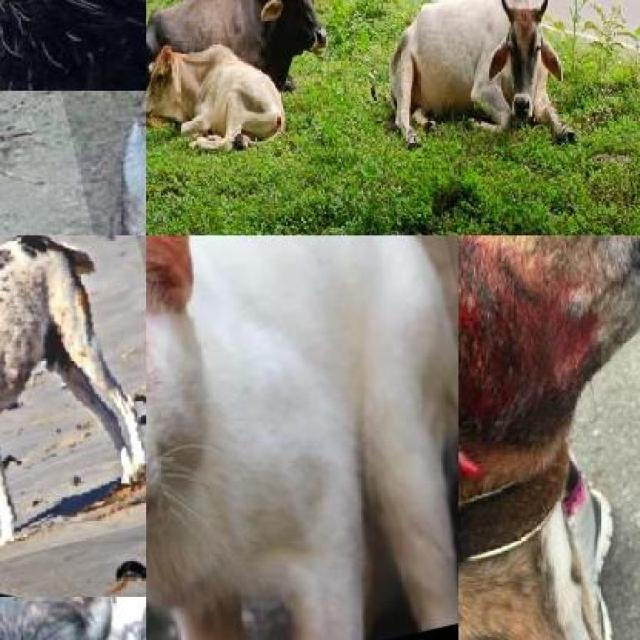cat: (146, 235, 459, 640), (52, 91, 146, 235)
cow: (384, 0, 576, 149), (146, 0, 328, 86)
dog: (458, 235, 640, 640), (0, 235, 146, 592)
injured: (458, 236, 584, 566)
